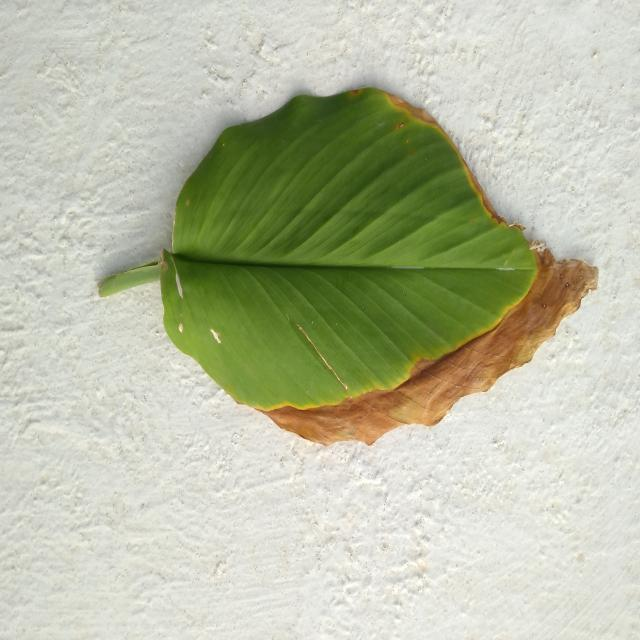leaf blotch: (99, 87, 598, 444)
